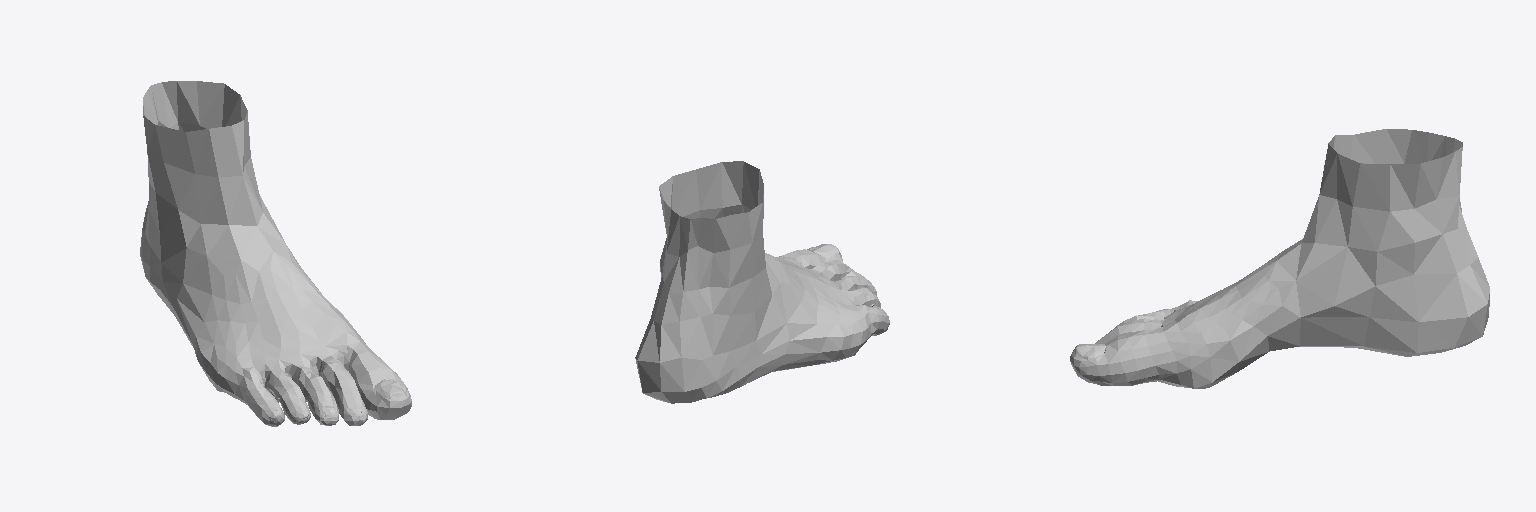
File: human_foot.obj
3 renders of one model, left to right at view 1: azimuth 30°, elevation 25°; view 2: azimuth 150°, elevation 25°; view 3: azimuth 270°, elevation 25°, orthographic.
Parts seen in each view (by area): view 1: foot; view 2: foot; view 3: foot.
Part boxes in pixels (left/top/right/bottom): foot: left=140, top=81, right=411, bottom=426; foot: left=635, top=161, right=889, bottom=403; foot: left=1070, top=129, right=1489, bottom=388.
Size of the model in its own units: 0.9421 by 1.5 by 2.54.